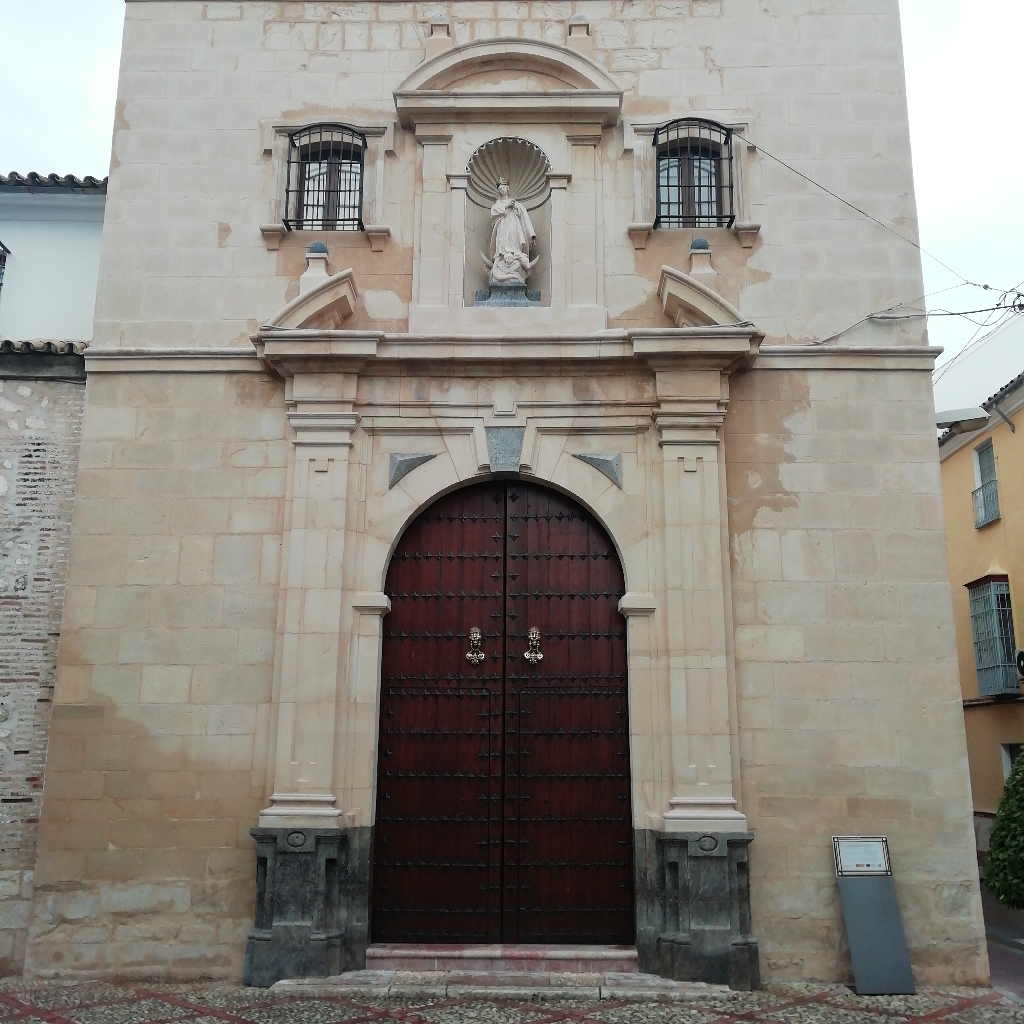arco-medio-punto: (367, 460, 636, 635)
fronton-curvo: (384, 36, 630, 120)
fronton-partido: (256, 261, 758, 367)
